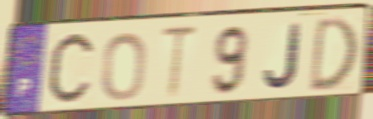9: (209, 22, 251, 97)
C: (44, 28, 98, 111)
D: (307, 14, 361, 95)
J: (261, 22, 303, 93)
O: (100, 30, 149, 104)
T: (158, 24, 201, 103)
